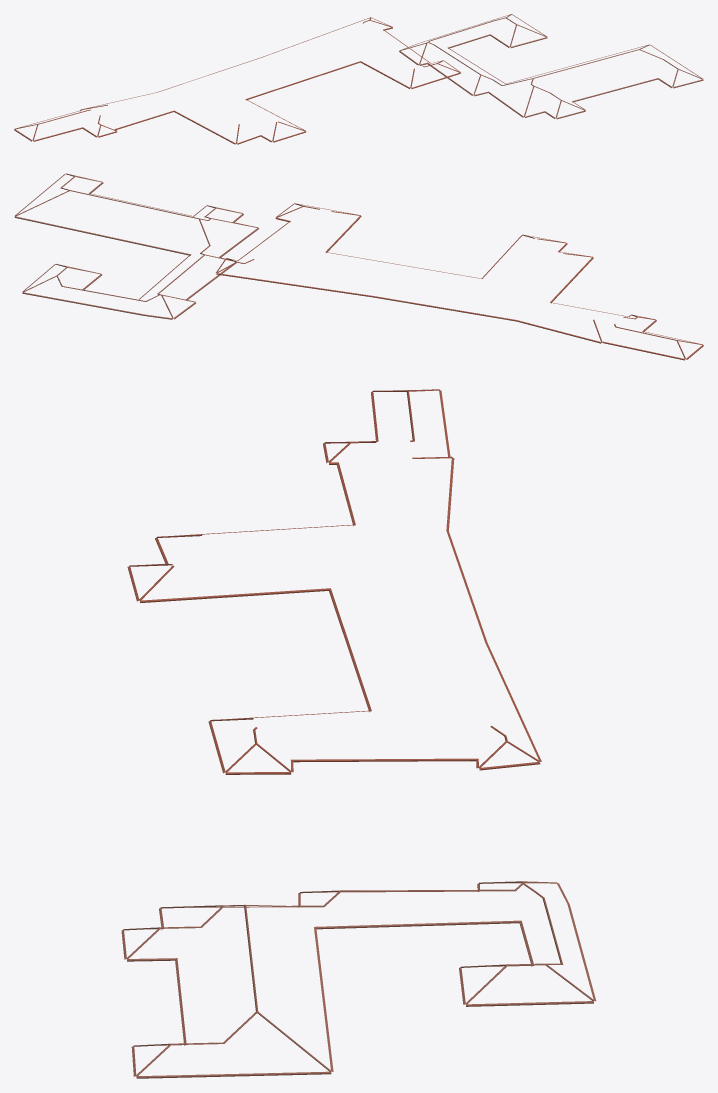
The picture shows the model from 3 angles, top to bottom: view 1: azimuth 30°, elevation 25°; view 2: azimuth 150°, elevation 25°; view 3: azimuth 270°, elevation 25°; orthographic projection. The views are drawn at different scales.
Visible parts, largest first — view 1: detail; view 2: detail; view 3: detail.
Boxes of the visible parts, left/top/right/bottom form: detail: left=14, top=14, right=703, bottom=144; detail: left=14, top=173, right=703, bottom=360; detail: left=121, top=389, right=596, bottom=1078.
Bounding box in the file's own units: 184 × 15.37 × 61.54.
